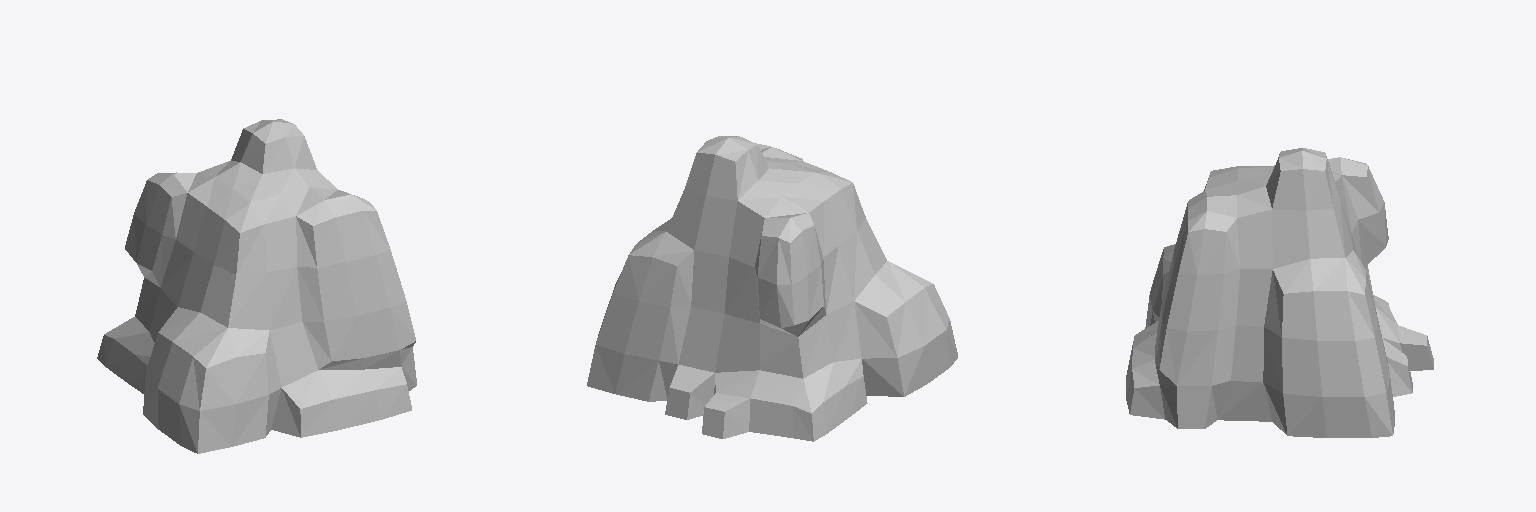
File: montaña_low2.obj
3 renders of one model, left to right at view 1: azimuth 30°, elevation 25°; view 2: azimuth 150°, elevation 25°; view 3: azimuth 270°, elevation 25°, orthographic.
Parts seen in each view (by area): view 1: Box002; view 2: Box002; view 3: Box002.
Boxes of the visible parts, x1,y1,x2,y2 form: Box002: [97, 119, 416, 453]; Box002: [587, 136, 957, 441]; Box002: [1126, 148, 1433, 437].
Size of the model in its own units: 75.99 by 67.38 by 78.74.